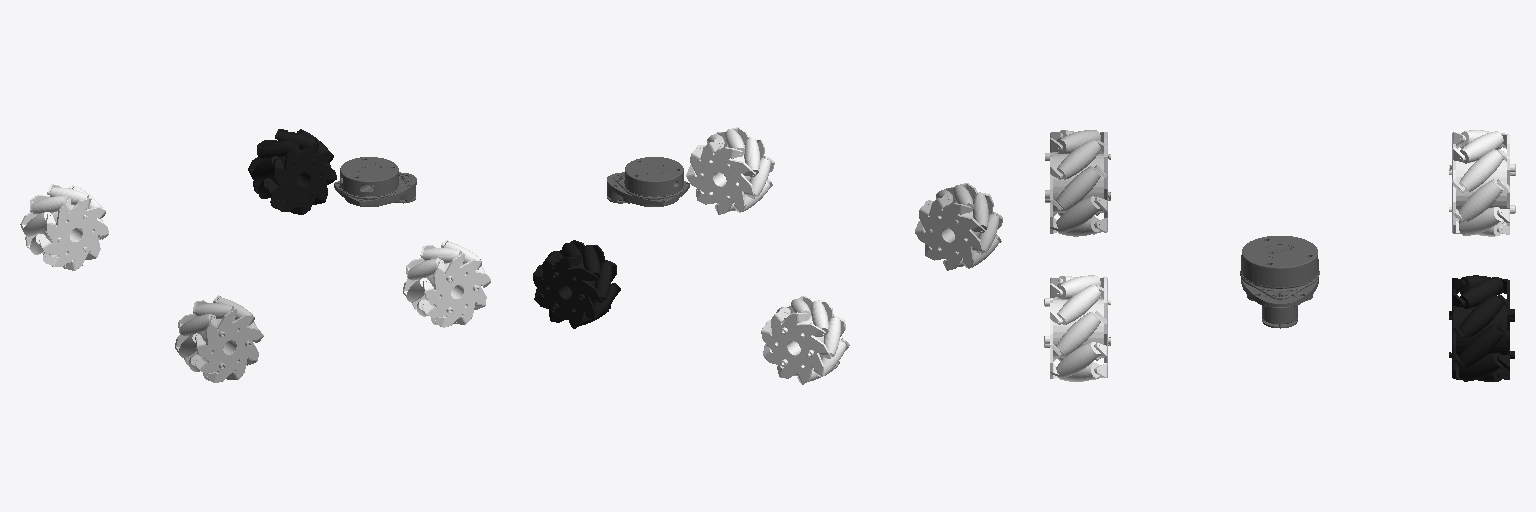
URDF robot description (mobile_robot):
<?xml version="1.0" encoding="utf-8"?>
<robot
  name="mobile_robot">

  <link name="base_footprint" />
  <joint name="base_joint" type="fixed">
    <parent link="base_footprint" />
    <child link="base_link" />
    <origin rpy="0 0 -1.571" />
  </joint>
  <link
    name="base_link">
    <inertial>
      <origin
        xyz="-7.21353338584021E-05 0.053089226138797 0.0253124328907089"
        rpy="0 0 0" />
      <mass
        value="2.53586864209145" />
      <inertia
        ixx="0.0130988660125112"
        ixy="1.5439039788008E-08"
        ixz="-7.0245263255295E-06"
        iyy="0.0187432257323379"
        iyz="1.4171423681933E-06"
        izz="0.0068253762585396" />
    </inertial>
    <visual>
      <origin
        xyz="0 0 0"
        rpy="0 0 0" />
      <geometry>
        <mesh
          filename="package://mobile_robot/meshes/base_link.STL" />
      </geometry>
      <material
        name="">
        <color
          rgba="0.96078431372549 0.96078431372549 0.964705882352941 1" />
      </material>
    </visual>
    <collision>
      <origin
        xyz="0 0 0"
        rpy="0 0 0" />
      <geometry>
        <mesh
          filename="package://mobile_robot/meshes/base_link.STL" />
      </geometry>
    </collision>
  </link>
  <link
    name="fl_wheel">
    <inertial>
      <origin
        xyz="-0.035446536837034 -0.00945419469287452 -0.0350657249459968"
        rpy="0 0 0" />
      <mass
        value="0.209242205270652" />
      <inertia
        ixx="6.18813822893826E-05"
        ixy="1.00728808725636E-05"
        ixz="-4.2499966894806E-06"
        iyy="6.38594165349346E-05"
        iyz="-4.68734521554026E-06"
        izz="5.47268237519724E-05" />
    </inertial>
    <visual>
      <origin
        xyz="0 0 0"
        rpy="0 0 0" />
      <geometry>
        <mesh
          filename="package://mobile_robot/meshes/fl_wheel.STL" />
      </geometry>
      <material
        name="">
        <color
          rgba="0.152941176470588 0.152941176470588 0.152941176470588 1" />
      </material>
    </visual>
    <collision>
      <origin
        xyz="0 0 0"
        rpy="0 0 0" />
      <geometry>
        <mesh
          filename="package://mobile_robot/meshes/fl_wheel.STL" />
      </geometry>
    </collision>
  </link>
  <joint
    name="fl_joint"
    type="fixed">
    <origin
      xyz="-0.16241 0.18625 0.080068"
      rpy="-0.94821 -0.86247 -0.17082" />
    <parent
      link="base_link" />
    <child
      link="fl_wheel" />
    <axis
      xyz="0 0 0" />
  </joint>
  <link
    name="fr_wheel">
    <inertial>
      <origin
        xyz="-0.0121731912534891 0.00395386396752551 0.0258900875575578"
        rpy="0 0 0" />
      <mass
        value="0.209242205445262" />
      <inertia
        ixx="5.27492978645977E-05"
        ixy="-1.48332883054147E-10"
        ixz="6.88060983030131E-11"
        iyy="5.27489117610667E-05"
        iyz="1.88098980530649E-10"
        izz="7.49694134144625E-05" />
    </inertial>
    <visual>
      <origin
        xyz="0 0 0"
        rpy="0 0 0" />
      <geometry>
        <mesh
          filename="package://mobile_robot/meshes/fr_wheel.STL" />
      </geometry>
      <material
        name="black">
        <color
          rgba="0.96078431372549 0.96078431372549 0.964705882352941 1" />
      </material>
    </visual>
    <collision>
      <origin
        xyz="0 0 0"
        rpy="0 0 0" />
      <geometry>
        <mesh
          filename="package://mobile_robot/meshes/fr_wheel.STL" />
      </geometry>
    </collision>
  </link>
  <joint
    name="fr_joint"
    type="fixed">
    <origin
      xyz="0.20724 0.16719 0.048796"
      rpy="-1.5708 0 1.5708" />
    <parent
      link="base_link" />
    <child
      link="fr_wheel" />
    <axis
      xyz="0 0 0" />
  </joint>
  <link
    name="bl_wheel">
    <inertial>
      <origin
        xyz="-0.012173191130377 -0.0039538636153987 -0.0258900874668579"
        rpy="0 0 0" />
      <mass
        value="0.209242205270651" />
      <inertia
        ixx="5.27492981340793E-05"
        ixy="1.49043913486474E-10"
        ixz="-6.88056867799049E-11"
        iyy="5.27489112903855E-05"
        iyz="1.88177109413795E-10"
        izz="7.49694131518243E-05" />
    </inertial>
    <visual>
      <origin
        xyz="0 0 0"
        rpy="0 0 0" />
      <geometry>
        <mesh
          filename="package://mobile_robot/meshes/bl_wheel.STL" />
      </geometry>
      <material
        name="black">
      </material>
    </visual>
    <collision>
      <origin
        xyz="0 0 0"
        rpy="0 0 0" />
      <geometry>
        <mesh
          filename="package://mobile_robot/meshes/bl_wheel.STL" />
      </geometry>
    </collision>
  </link>
  <joint
    name="bl_joint"
    type="fixed">
    <origin
      xyz="-0.20724 -0.16716 0.048796"
      rpy="1.5708 0 -1.5708" />
    <parent
      link="base_link" />
    <child
      link="bl_wheel" />
    <axis
      xyz="0 0 0" />
  </joint>
  <link
    name="br_wheel">
    <inertial>
      <origin
        xyz="0.0132863573329233 0.0196855970551316 0.0307900875575582"
        rpy="0 0 0" />
      <mass
        value="0.209242205445262" />
      <inertia
        ixx="5.27488690365847E-05"
        ixy="-6.06728068393986E-11"
        ixz="-1.99230581583928E-10"
        iyy="5.27493405890799E-05"
        iyz="-2.05592111104188E-11"
        izz="7.49694134144627E-05" />
    </inertial>
    <visual>
      <origin
        xyz="0 0 0"
        rpy="0 0 0" />
      <geometry>
        <mesh
          filename="package://mobile_robot/meshes/br_wheel.STL" />
      </geometry>
      <material
        name="">
        <color
          rgba="0.768627450980392 0.772549019607843 0.768627450980392 1" />
      </material>
    </visual>
    <collision>
      <origin
        xyz="0 0 0"
        rpy="0 0 0" />
      <geometry>
        <mesh
          filename="package://mobile_robot/meshes/br_wheel.STL" />
      </geometry>
    </collision>
  </link>
  <joint
    name="br_joint"
    type="fixed">
    <origin
      xyz="0.21214 -0.16686 0.024274"
      rpy="1.5708 -1.1173 -1.5708" />
    <parent
      link="base_link" />
    <child
      link="br_wheel" />
    <axis
      xyz="0 0 0" />
  </joint>
  <link
    name="lidar">
    <inertial>
      <origin
        xyz="0.00615499275501901 0.0265025506034513 0.0115803179816844"
        rpy="-1.5708 0 -1.12" />
      <mass
        value="0.0625978718920556" />
      <inertia
        ixx="2.03360596137219E-05"
        ixy="1.95242682743797E-07"
        ixz="-1.59529409623501E-06"
        iyy="3.56531824109386E-05"
        iyz="3.81877297208081E-07"
        izz="1.75442755220241E-05" />
    </inertial>
    <visual>
      <origin
        xyz="0 0 0"
        rpy="-1.5708 0 -1.12" />
      <geometry>
        <mesh
          filename="package://mobile_robot/meshes/lidar.STL" />
      </geometry>
      <material
        name="">
        <color
          rgba="0.43921568627451 0.43921568627451 0.43921568627451 1" />
      </material>
    </visual>
    <collision>
      <origin
        xyz="0 0 0"
        rpy="-1.5708 0 -1.12" />
      <geometry>
        <mesh
          filename="package://mobile_robot/meshes/lidar.STL" />
      </geometry>
    </collision>
  </link>
  <joint
    name="lidar_joint"
    type="fixed">
    <origin
      xyz="0 0.15432 0.12138"
      rpy="0 0 1.571" />
    <parent
      link="base_link" />
    <child
      link="lidar" />
    <axis
      xyz="0 0 0" />
  </joint>

  <gazebo>
    <plugin name="omni_drive_plugin" filename="libgazebo_ros_planar_move.so">
      <commandTopic>cmd_vel</commandTopic>
      <odometryTopic>odom</odometryTopic>
      <odometryFrame>odom</odometryFrame>
      <odometryRate>20.0</odometryRate>
      <robotBaseFrame>base_footprint</robotBaseFrame>
    </plugin>
  </gazebo>

  <gazebo reference="lidar">
    <sensor type="ray" name="lidar_sensor">
      <pose>0 0 0 0 0 0</pose>
      <visualize>true</visualize>
      <update_rate>10</update_rate>
      <ray>
        <scan>
          <horizontal>
            <samples>720</samples>
            <resolution>1</resolution>
            <min_angle>-2.44</min_angle>
            <max_angle>2.44</max_angle>
          </horizontal>
        </scan>
        <range>
          <min>0.10</min>
          <max>30.0</max>
          <resolution>0.01</resolution>
        </range>
        <noise>
          <type>gaussian</type>
          <mean>0.0</mean>
          <stddev>0.01</stddev>
        </noise>
      </ray>
      <plugin name="gazebo_ros_head_hokuyo_controller" filename="libgazebo_ros_laser.so">
        <topicName>scan</topicName>
        <frameName>lidar</frameName>
      </plugin>
    </sensor>
  </gazebo>


</robot>

--- What the picture shows (computed from the rendered views, not written in the file) ---
The picture shows the robot from 3 angles, left to right: view 1: azimuth 30°, elevation 25°; view 2: azimuth 150°, elevation 25°; view 3: azimuth 270°, elevation 25°; orthographic projection.
Robot: mobile_robot — 7 links, 6 joints (6 fixed); root link base_footprint; default pose: every joint at zero.
Links seen in each view (by area): view 1: fl_wheel, fr_wheel, br_wheel, bl_wheel, lidar; view 2: br_wheel, bl_wheel, fr_wheel, fl_wheel, lidar; view 3: bl_wheel, fl_wheel, fr_wheel, br_wheel, lidar.
Link boxes in pixels (bbox=[...]): fl_wheel: bbox=[248, 129, 336, 214]; fr_wheel: bbox=[403, 240, 490, 327]; br_wheel: bbox=[175, 295, 263, 382]; bl_wheel: bbox=[20, 184, 108, 270]; lidar: bbox=[334, 157, 416, 206]; br_wheel: bbox=[915, 183, 1002, 270]; bl_wheel: bbox=[761, 296, 849, 384]; fr_wheel: bbox=[686, 127, 774, 214]; fl_wheel: bbox=[533, 240, 620, 328]; lidar: bbox=[607, 157, 689, 206]; bl_wheel: bbox=[1449, 130, 1515, 236]; fl_wheel: bbox=[1449, 275, 1514, 381]; fr_wheel: bbox=[1044, 275, 1110, 381]; br_wheel: bbox=[1045, 130, 1110, 236]; lidar: bbox=[1240, 236, 1319, 328].
Bounding box of the posed robot: 0.419 × 0.4244 × 0.1246 m (x, y, z).
5 mesh visuals loaded from 6 distinct referenced files (5 binary STL); not drawn: 1 (reference not matched to a file when rendering).
